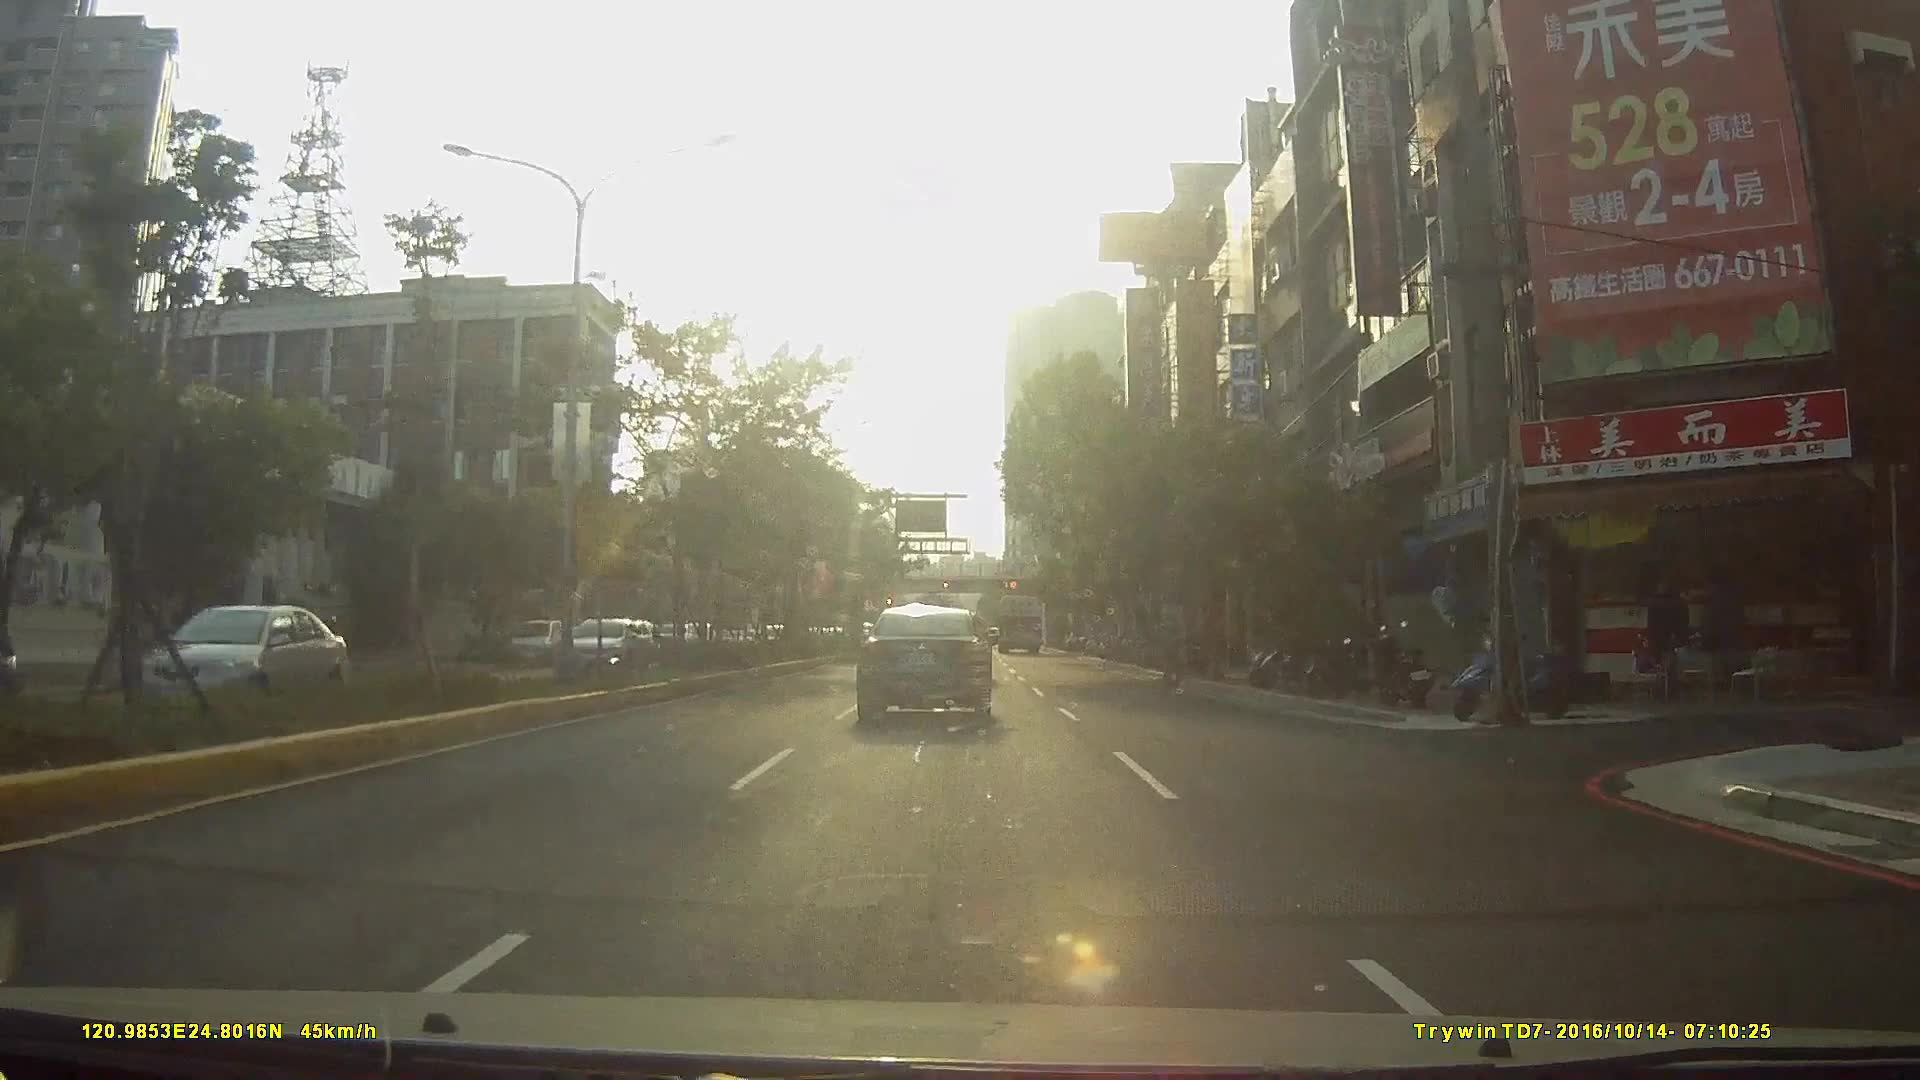pedestrian: (1157, 610, 1197, 702)
vehicle: (126, 600, 370, 718), (853, 602, 995, 725), (555, 614, 656, 683), (992, 592, 1043, 655), (504, 618, 566, 665)
